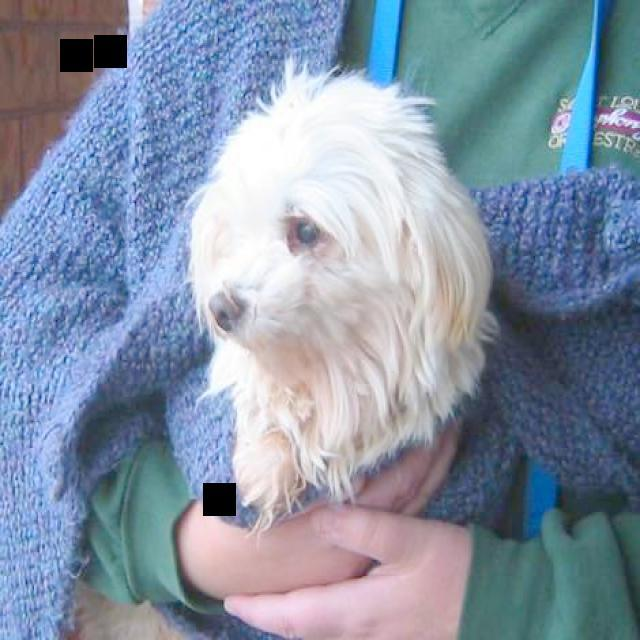adult_dog: (179, 67, 503, 526)
